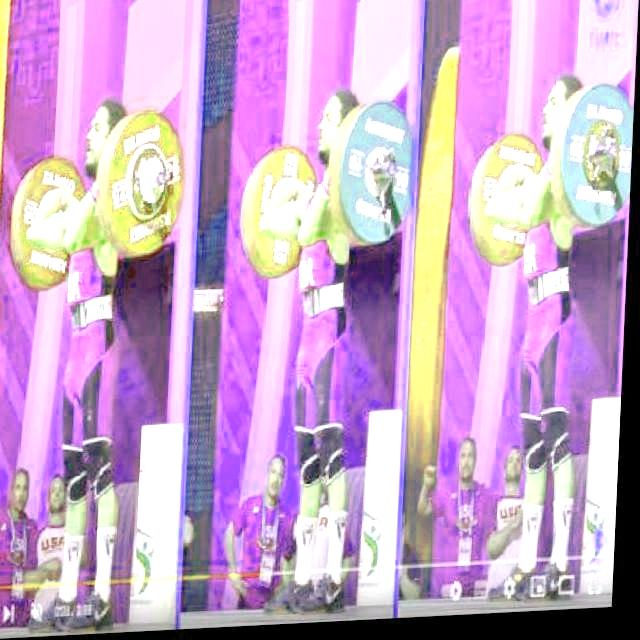barbell: (103, 103, 192, 258), (337, 98, 420, 256), (559, 83, 637, 237)
